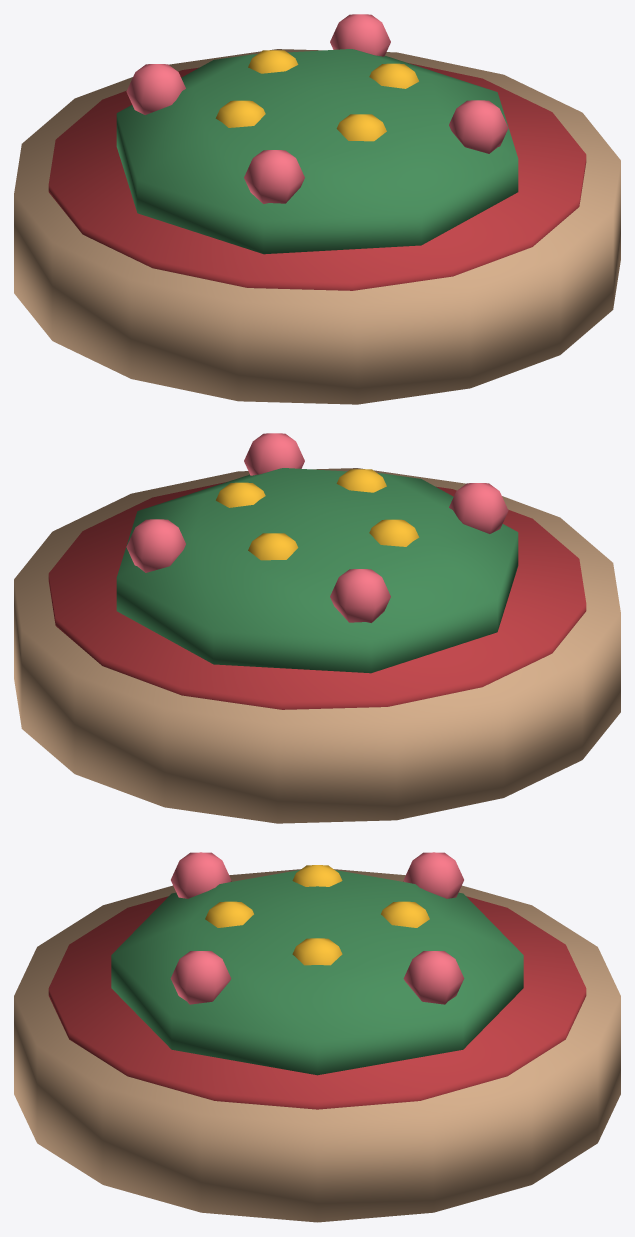
File: flowerbed.glb
3 renders of one model, top to bottom at view 1: azimuth 30°, elevation 25°; view 2: azimuth 150°, elevation 25°; view 3: azimuth 270°, elevation 25°, orthographic.
Parts seen in each view (by area): view 1: flowerbed, flowerbed_leaves, flowerbed_soil, flowerbed_f5, flowerbed_f7, flowerbed_f3, flowerbed_f1, flowerbed_f6, flowerbed_f4, flowerbed_f0, flowerbed_f2; view 2: flowerbed, flowerbed_leaves, flowerbed_soil, flowerbed_f3, flowerbed_f1, flowerbed_f5, flowerbed_f7, flowerbed_f2, flowerbed_f4, flowerbed_f0, flowerbed_f6; view 3: flowerbed, flowerbed_leaves, flowerbed_soil, flowerbed_f1, flowerbed_f7, flowerbed_f3, flowerbed_f5, flowerbed_f0, flowerbed_f2, flowerbed_f6, flowerbed_f4.
Boxes of the visible parts, bbox=[...] form: flowerbed: bbox=[14, 49, 620, 404]; flowerbed_leaves: bbox=[116, 49, 518, 254]; flowerbed_soil: bbox=[48, 63, 586, 290]; flowerbed_f5: bbox=[244, 150, 304, 203]; flowerbed_f7: bbox=[449, 100, 508, 153]; flowerbed_f3: bbox=[126, 64, 185, 114]; flowerbed_f1: bbox=[330, 14, 390, 56]; flowerbed_f6: bbox=[336, 114, 386, 141]; flowerbed_f4: bbox=[215, 100, 265, 127]; flowerbed_f0: bbox=[369, 63, 418, 88]; flowerbed_f2: bbox=[248, 50, 298, 73]; flowerbed: bbox=[14, 468, 620, 823]; flowerbed_leaves: bbox=[116, 468, 518, 673]; flowerbed_soil: bbox=[48, 482, 586, 709]; flowerbed_f3: bbox=[330, 569, 390, 622]; flowerbed_f1: bbox=[126, 519, 185, 572]; flowerbed_f5: bbox=[449, 483, 508, 533]; flowerbed_f7: bbox=[244, 433, 304, 475]; flowerbed_f2: bbox=[248, 533, 298, 560]; flowerbed_f4: bbox=[369, 519, 419, 546]; flowerbed_f0: bbox=[216, 482, 265, 507]; flowerbed_f6: bbox=[336, 469, 386, 492]; flowerbed: bbox=[14, 869, 620, 1222]; flowerbed_leaves: bbox=[111, 870, 523, 1075]; flowerbed_soil: bbox=[48, 881, 586, 1109]; flowerbed_f1: bbox=[403, 951, 464, 1004]; flowerbed_f7: bbox=[170, 951, 231, 1004]; flowerbed_f3: bbox=[404, 852, 463, 898]; flowerbed_f5: bbox=[171, 852, 230, 898]; flowerbed_f0: bbox=[292, 938, 342, 965]; flowerbed_f2: bbox=[381, 901, 429, 927]; flowerbed_f6: bbox=[205, 901, 253, 927]; flowerbed_f4: bbox=[292, 865, 342, 886].
Bounding box in the file's own units: 1.4 × 0.49 × 1.4.
